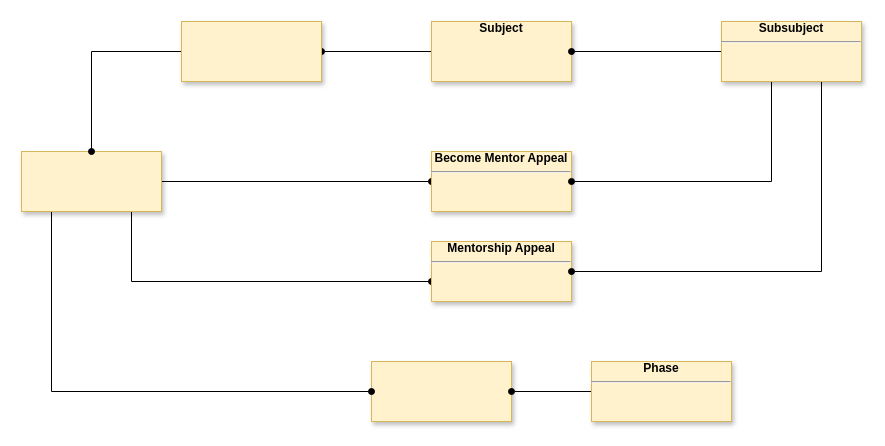
The diagram is 885 pixels wide and 446 high, and some of its shapes have lost their labels. Each missing label, with the centre of its shape:
"Mentorship" belongs at (442,392).
"Role" belongs at (252,52).
"User" belongs at (92,182).
